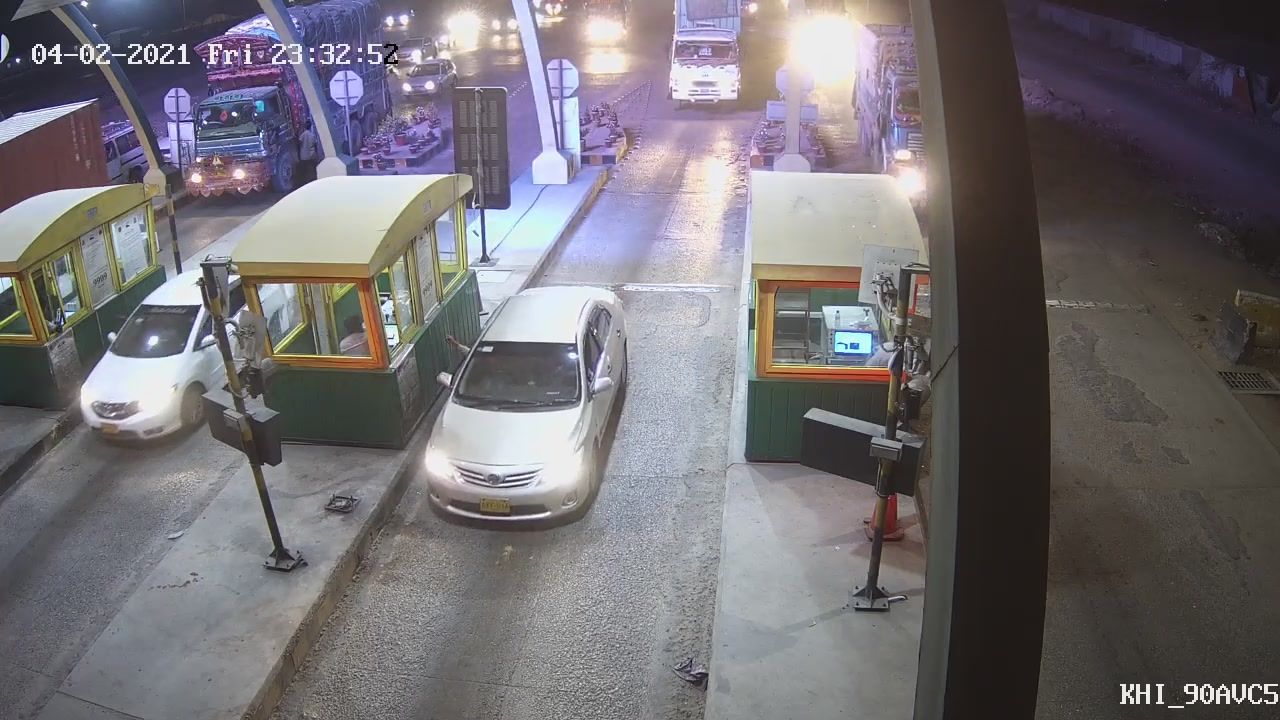F1: (419, 280, 629, 526)
